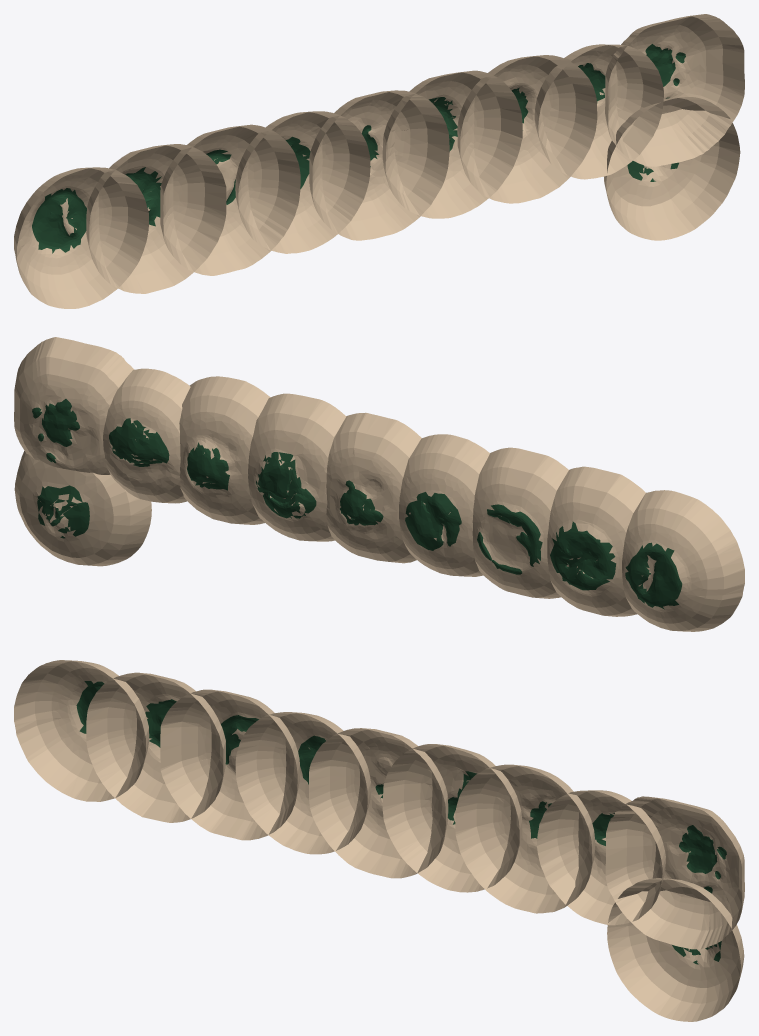
Rendered from Islands 1 (LOD 2).fbx.
3 views of the same model, one above another, from view 1: azimuth 30°, elevation 25°; view 2: azimuth 150°, elevation 25°; view 3: azimuth 330°, elevation 25° (orthographic).
Visible parts, largest first — view 1: Island (LOD 2) 9, Island (LOD 2) 3, Island (LOD 2) 8, Island (LOD 2) 5, Island (LOD 2) 1, Island (LOD 2) 2, Island (LOD 2) 6, Island (LOD 2) 10, Island (LOD 2) 7, Island (LOD 2) 4; view 2: Island (LOD 2) 9, Island (LOD 2) 3, Island (LOD 2) 1, Island (LOD 2) 2, Island (LOD 2) 6, Island (LOD 2) 8, Island (LOD 2) 10, Island (LOD 2) 5, Island (LOD 2) 7, Island (LOD 2) 4; view 3: Island (LOD 2) 3, Island (LOD 2) 5, Island (LOD 2) 8, Island (LOD 2) 2, Island (LOD 2) 1, Island (LOD 2) 9, Island (LOD 2) 10, Island (LOD 2) 6, Island (LOD 2) 7, Island (LOD 2) 4.
Part boxes in pixels (bbox=[...]): Island (LOD 2) 9: bbox=[14, 167, 148, 308]; Island (LOD 2) 3: bbox=[605, 14, 744, 166]; Island (LOD 2) 8: bbox=[309, 90, 449, 240]; Island (LOD 2) 5: bbox=[457, 55, 597, 203]; Island (LOD 2) 1: bbox=[86, 144, 226, 293]; Island (LOD 2) 2: bbox=[160, 124, 300, 275]; Island (LOD 2) 6: bbox=[382, 70, 522, 218]; Island (LOD 2) 10: bbox=[604, 97, 740, 240]; Island (LOD 2) 7: bbox=[235, 111, 370, 253]; Island (LOD 2) 4: bbox=[534, 44, 663, 179]; Island (LOD 2) 9: bbox=[622, 490, 744, 631]; Island (LOD 2) 3: bbox=[14, 337, 133, 474]; Island (LOD 2) 1: bbox=[547, 466, 645, 616]; Island (LOD 2) 2: bbox=[472, 447, 568, 598]; Island (LOD 2) 6: bbox=[248, 393, 346, 541]; Island (LOD 2) 8: bbox=[326, 412, 421, 563]; Island (LOD 2) 10: bbox=[14, 451, 151, 566]; Island (LOD 2) 5: bbox=[179, 376, 270, 524]; Island (LOD 2) 7: bbox=[399, 434, 489, 576]; Island (LOD 2) 4: bbox=[103, 368, 190, 503]; Island (LOD 2) 3: bbox=[605, 796, 744, 949]; Island (LOD 2) 5: bbox=[455, 764, 594, 913]; Island (LOD 2) 8: bbox=[309, 728, 448, 878]; Island (LOD 2) 2: bbox=[160, 689, 299, 840]; Island (LOD 2) 1: bbox=[86, 672, 225, 822]; Island (LOD 2) 9: bbox=[14, 660, 149, 801]; Island (LOD 2) 10: bbox=[607, 878, 744, 1021]; Island (LOD 2) 6: bbox=[382, 744, 522, 892]; Island (LOD 2) 7: bbox=[235, 712, 370, 854]; Island (LOD 2) 4: bbox=[537, 790, 665, 925].
Size of the model in its own units: 1965 by 568 by 133.
